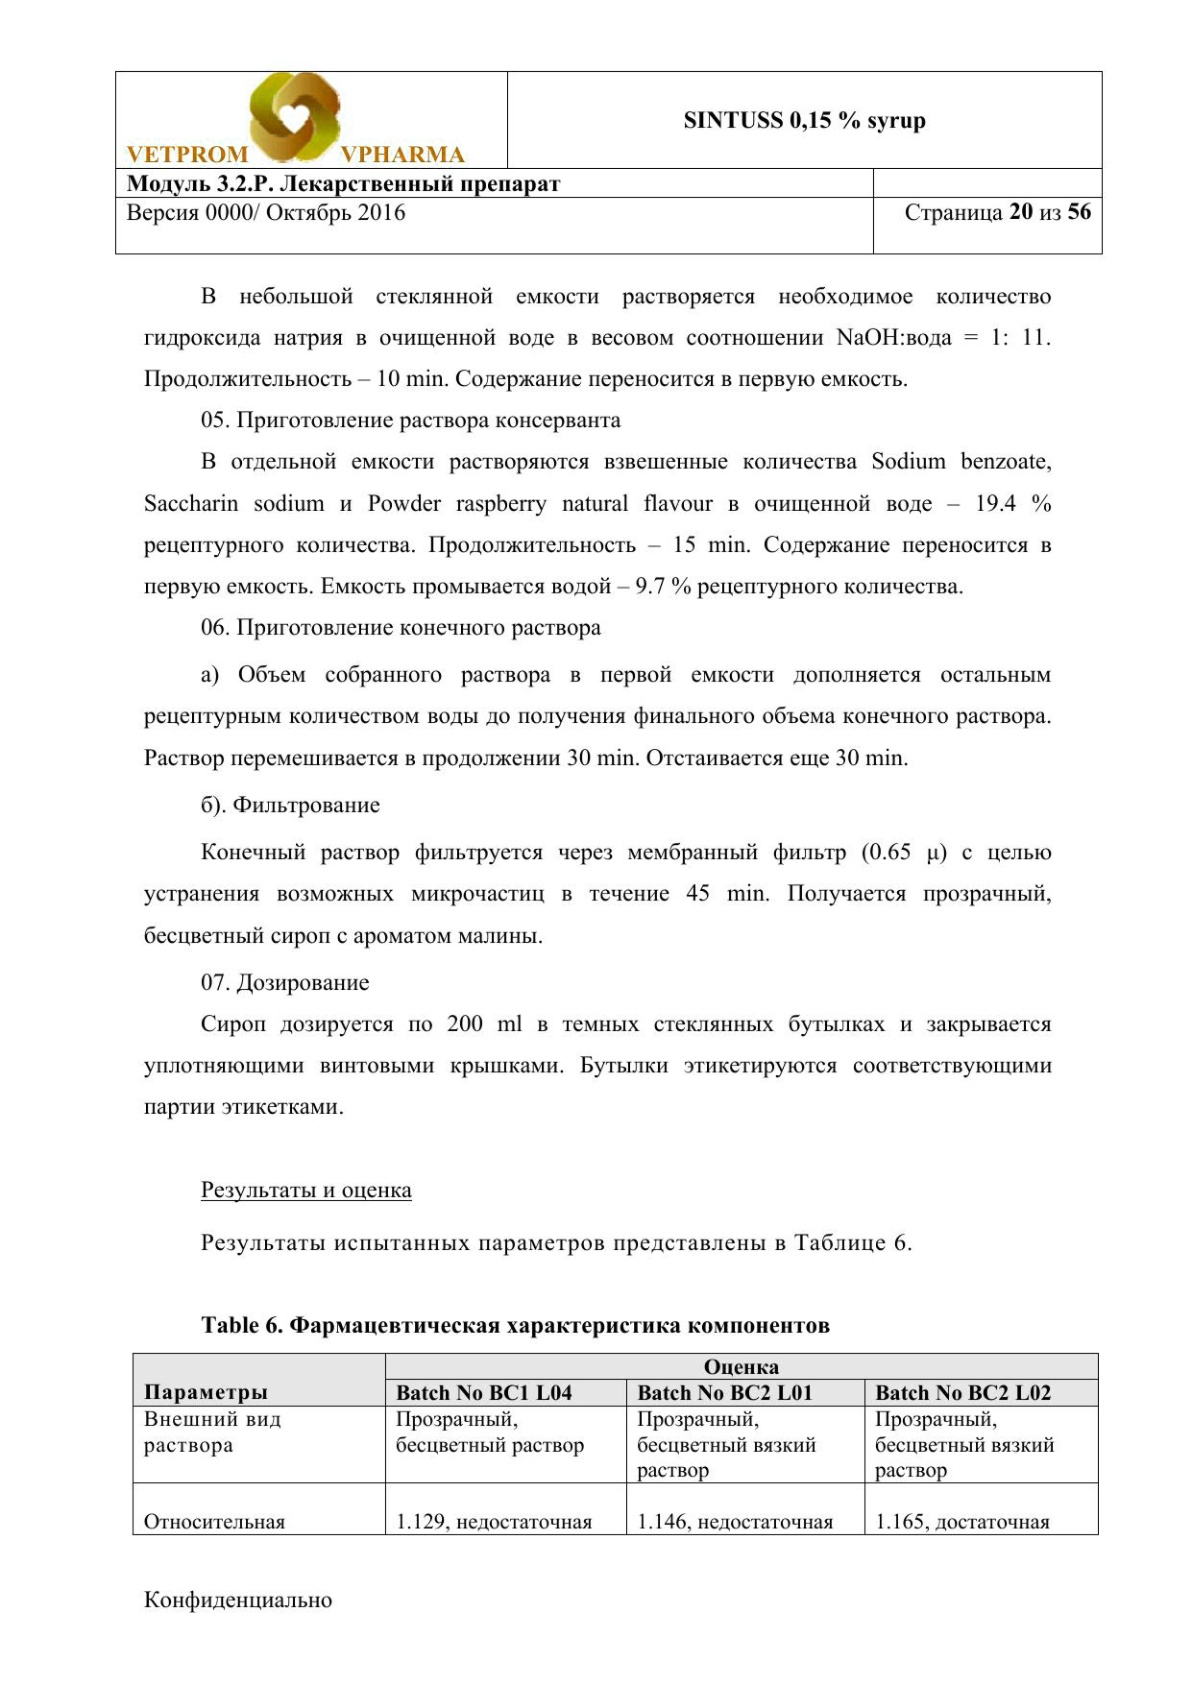merged_cells: (114, 70, 1103, 255), (132, 1351, 1098, 1535)
